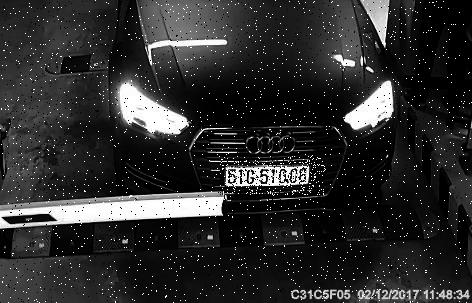License-plate: (222, 157, 327, 196)
